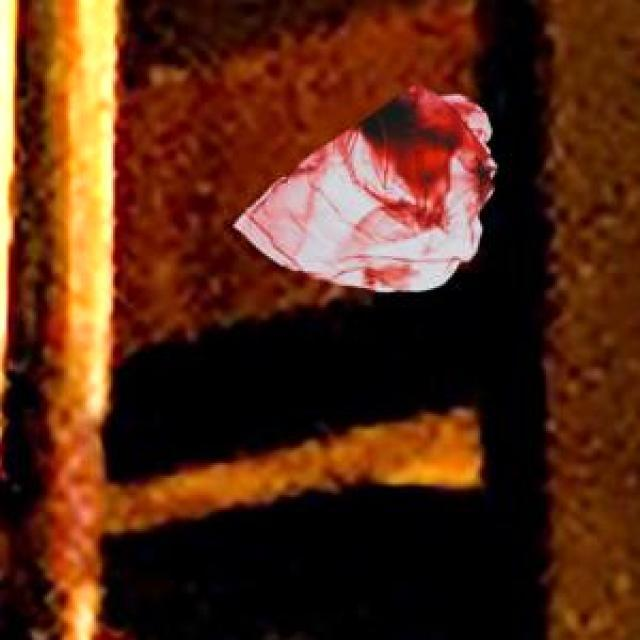Plastic_Bag: (231, 80, 494, 289)
